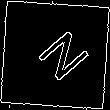N_SW: (23, 23, 87, 87)
